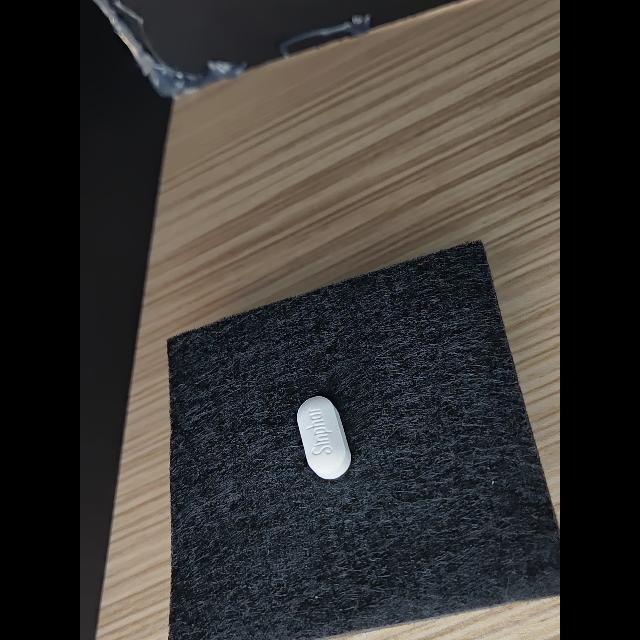Intact Pill: (297, 396, 351, 480)
